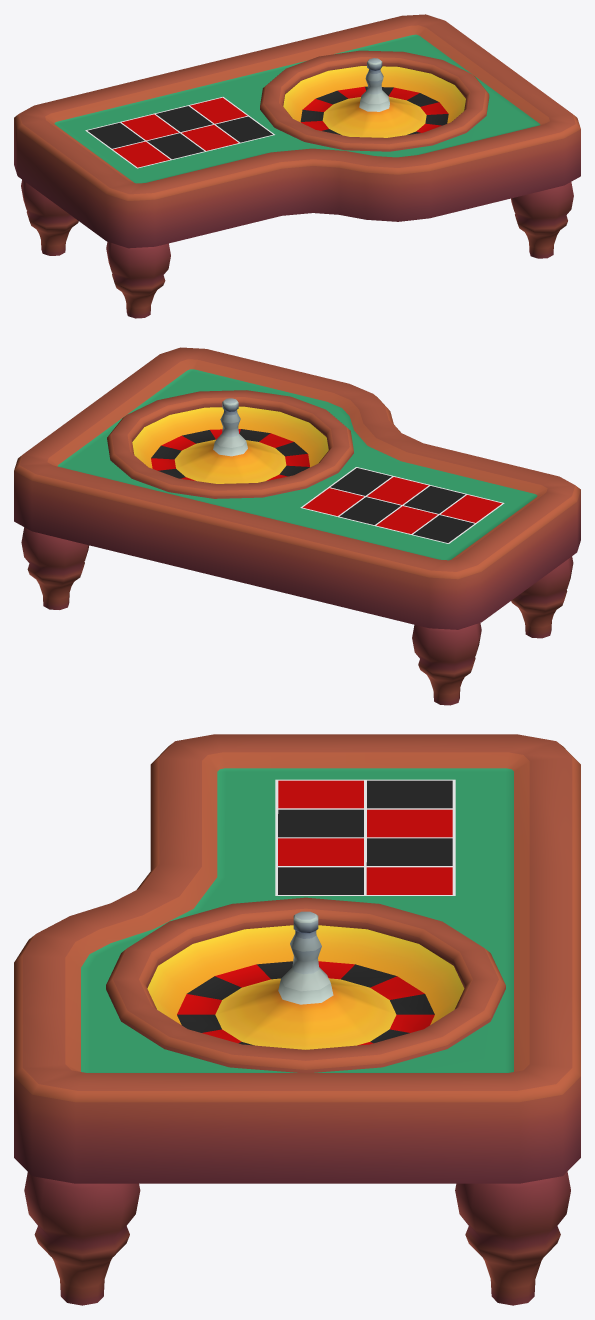
File: Roulette_table.fbx
The picture shows the model from 3 angles, top to bottom: view 1: azimuth 30°, elevation 25°; view 2: azimuth 150°, elevation 25°; view 3: azimuth 270°, elevation 25°; orthographic projection. The views are drawn at different scales.
Visible parts, largest first — view 1: Roulette_table, Roulette_spiner; view 2: Roulette_table, Roulette_spiner; view 3: Roulette_table, Roulette_spiner.
Part boxes in pixels (left/top/right/bottom): Roulette_table: left=14, top=14, right=580, bottom=318; Roulette_spiner: left=260, top=50, right=489, bottom=151; Roulette_table: left=14, top=347, right=580, bottom=705; Roulette_spiner: left=107, top=390, right=353, bottom=498; Roulette_table: left=14, top=734, right=580, bottom=1305; Roulette_spiner: left=106, top=897, right=505, bottom=1072.
Bounding box in the file's own units: 2.96 × 1.95 × 1.12.
